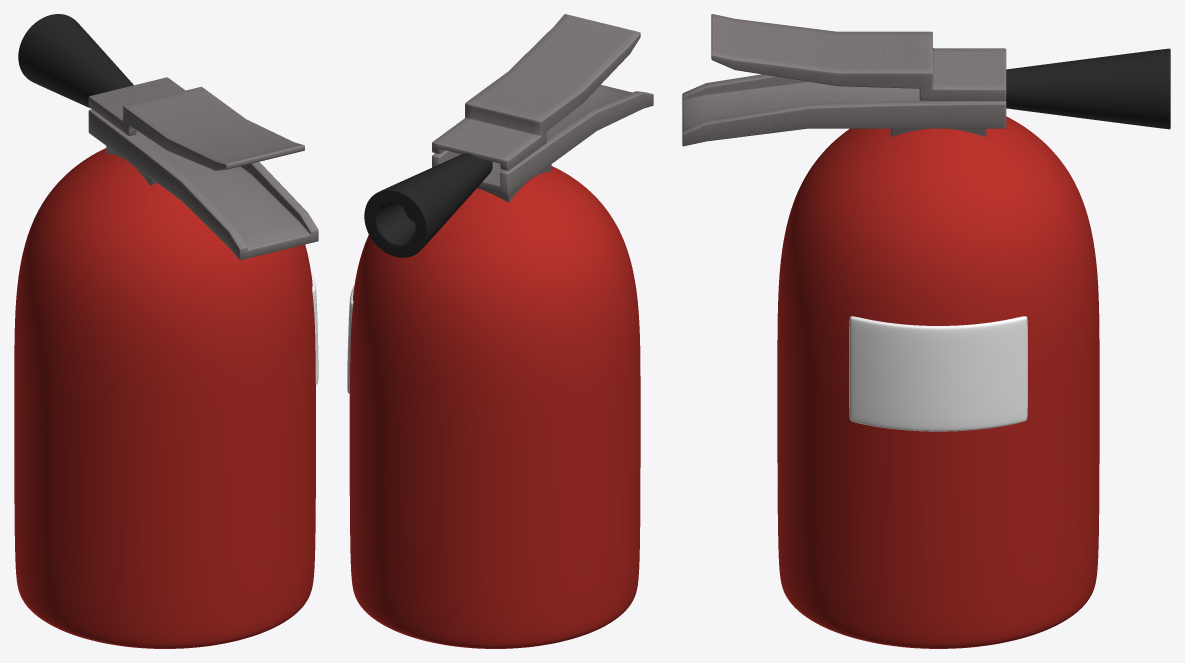
File: Fire_extinguisher.fbx
3 views of the same model, side by side, from view 1: azimuth 30°, elevation 25°; view 2: azimuth 150°, elevation 25°; view 3: azimuth 270°, elevation 25° (orthographic). The views are drawn at different scales.
Parts seen in each view (by area): view 1: Fire_extinguisher, Fire_extinguisher_handle, Fire_extinguisher_nozzle; view 2: Fire_extinguisher, Fire_extinguisher_handle, Fire_extinguisher_nozzle; view 3: Fire_extinguisher, Fire_extinguisher_handle, Fire_extinguisher_label, Fire_extinguisher_nozzle.
Part boxes in pixels (box(x1,y1,x2,y2)): Fire_extinguisher: box(14, 148, 315, 648); Fire_extinguisher_handle: box(88, 77, 318, 260); Fire_extinguisher_nozzle: box(18, 14, 133, 107); Fire_extinguisher: box(349, 166, 640, 648); Fire_extinguisher_handle: box(432, 14, 653, 202); Fire_extinguisher_nozzle: box(364, 153, 492, 257); Fire_extinguisher: box(777, 116, 1099, 648); Fire_extinguisher_handle: box(682, 14, 1006, 146); Fire_extinguisher_label: box(849, 316, 1027, 431); Fire_extinguisher_nozzle: box(1006, 48, 1170, 129).
Size of the model in its own units: 92.6 by 173 by 139.
